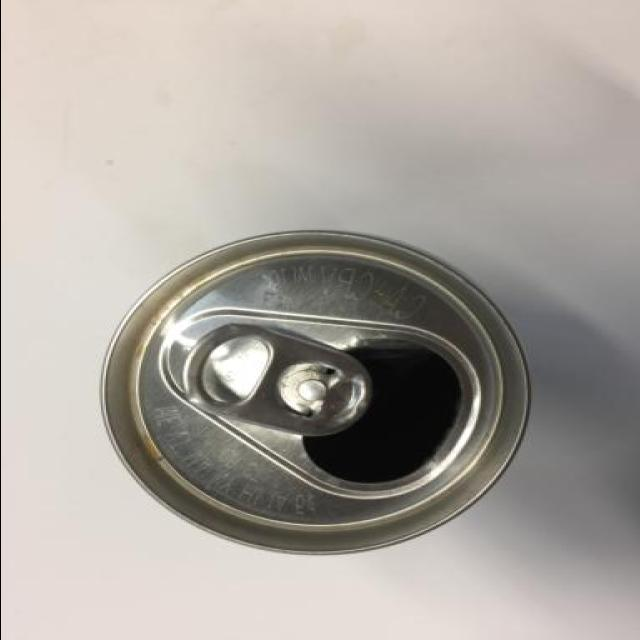non-organik: (70, 214, 546, 574)
